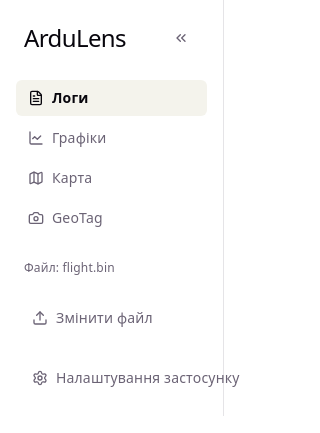
Test: Sidebar › hides the filename once collapsed (same as the other labels)
Click the button named "Згорнути бічну панель": click(181, 38) x1=163 y1=20 x2=199 y2=56
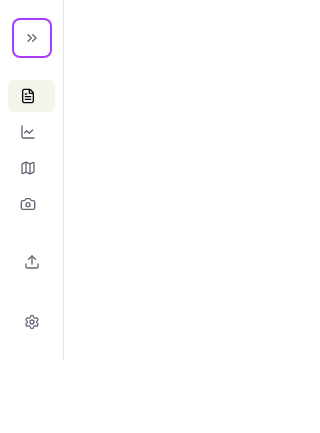
Expected: the text "Файл: flight.bin" is gone
